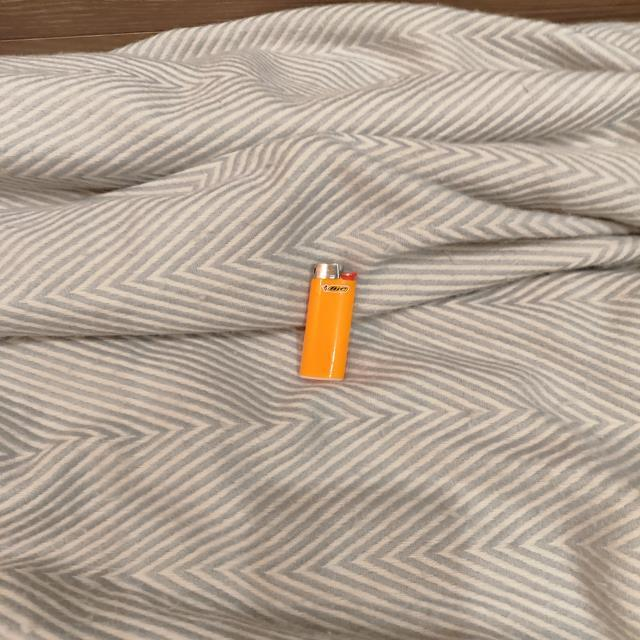lighter: (299, 263, 356, 380)
